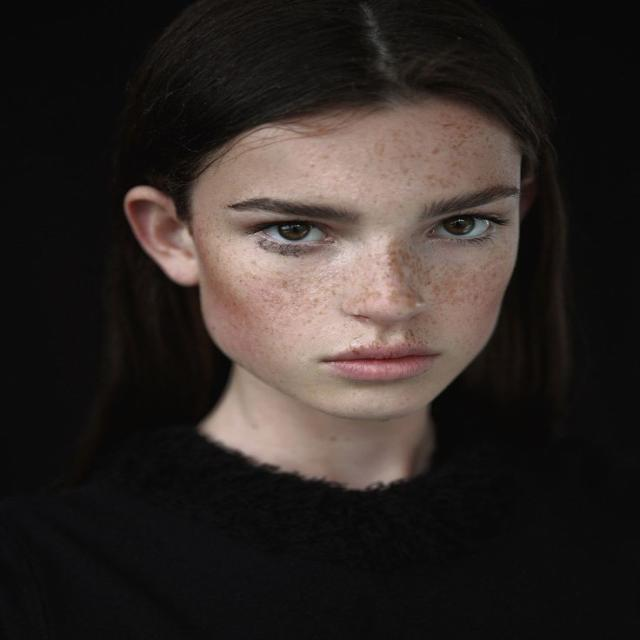earlobe: (122, 185, 205, 289)
